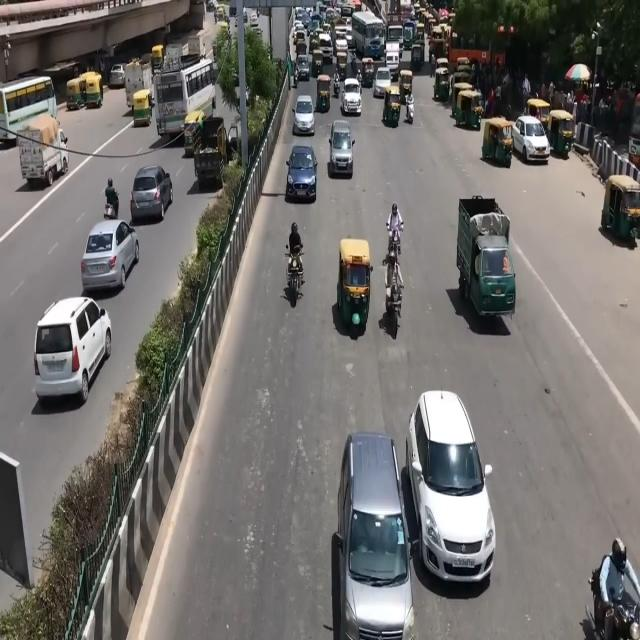auto: (334, 222, 374, 352), (602, 165, 640, 242), (484, 109, 518, 177), (547, 104, 576, 162), (454, 88, 486, 135), (526, 91, 554, 142), (129, 86, 158, 135), (64, 64, 88, 120), (380, 85, 405, 132), (84, 67, 106, 114), (183, 115, 207, 149), (316, 70, 331, 115), (151, 42, 166, 72)
bike-auto: (277, 212, 315, 320), (380, 248, 408, 340), (387, 196, 405, 268), (101, 176, 120, 223), (406, 87, 414, 133), (333, 65, 340, 103), (355, 69, 363, 98), (349, 50, 358, 74)
